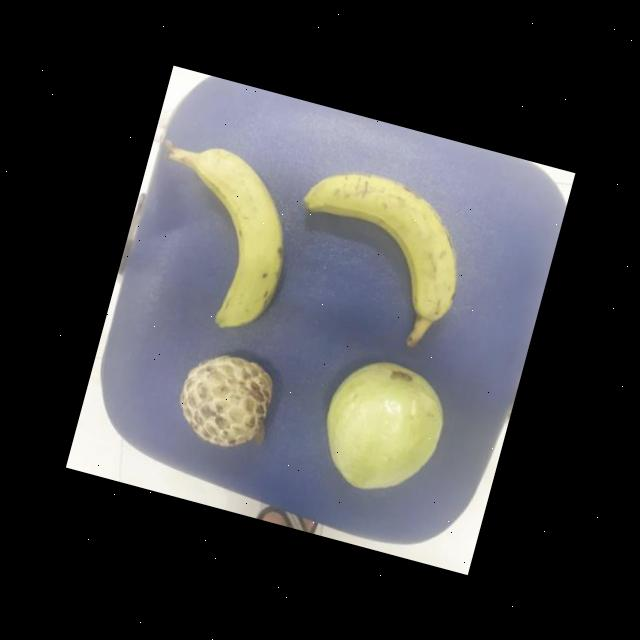Sakya fruit: (170, 346, 288, 460)
banana: (284, 160, 483, 330), (146, 140, 310, 338)
guava: (312, 352, 460, 504)
